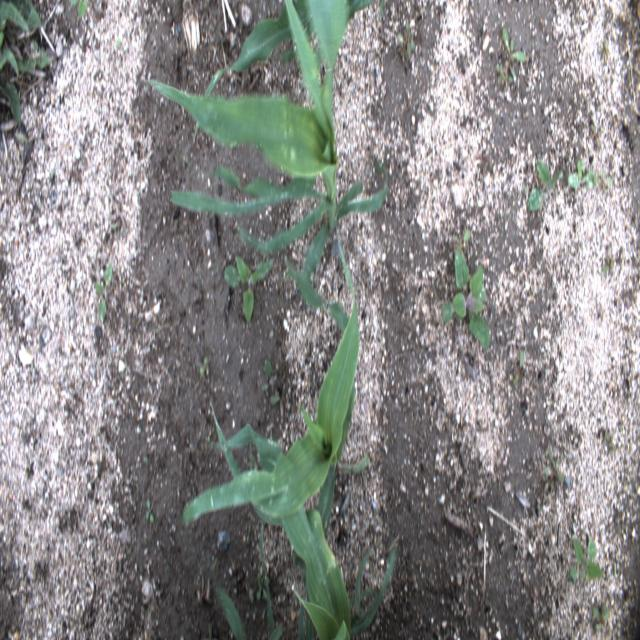crop: (182, 219, 369, 639), (140, 0, 388, 287), (210, 402, 397, 640), (260, 514, 285, 640), (216, 585, 247, 639)
weed: (0, 0, 55, 129), (441, 245, 490, 348), (224, 257, 274, 325), (527, 162, 563, 213), (496, 27, 526, 87), (566, 539, 604, 583), (95, 262, 113, 324), (543, 448, 565, 488), (397, 21, 416, 63), (568, 160, 594, 190), (590, 602, 610, 632), (261, 357, 277, 391), (452, 228, 472, 254), (270, 386, 286, 418), (593, 170, 611, 192), (514, 350, 524, 387), (68, 0, 87, 19), (145, 498, 154, 523)
